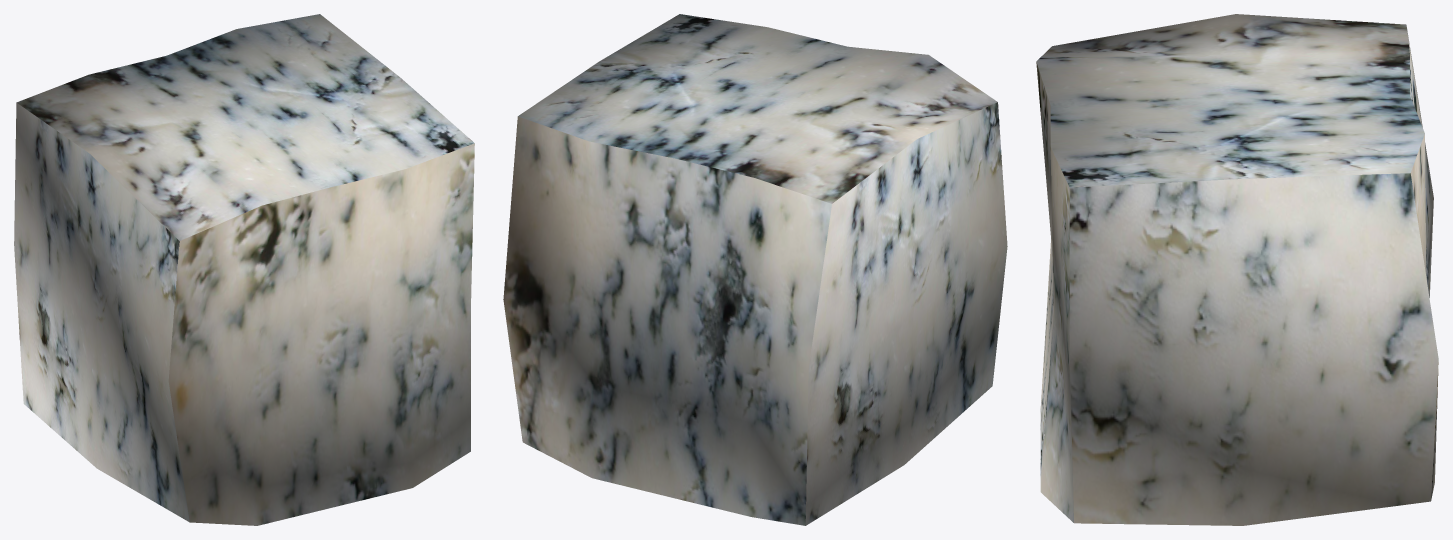
The model's file is blue_cheese.fbx.
3 renders of one model, left to right at view 1: azimuth 30°, elevation 25°; view 2: azimuth 150°, elevation 25°; view 3: azimuth 270°, elevation 25°, orthographic. The views are drawn at different scales.
Visible parts, largest first — view 1: blue_cheese; view 2: blue_cheese; view 3: blue_cheese.
Part boxes in pixels (x1,y1,x2,y2): blue_cheese: [14, 14, 474, 525]; blue_cheese: [503, 14, 1007, 525]; blue_cheese: [1036, 14, 1438, 525].
Size of the model in its own units: 2.03 by 2.03 by 2.06.
1 material, 1 textured.
